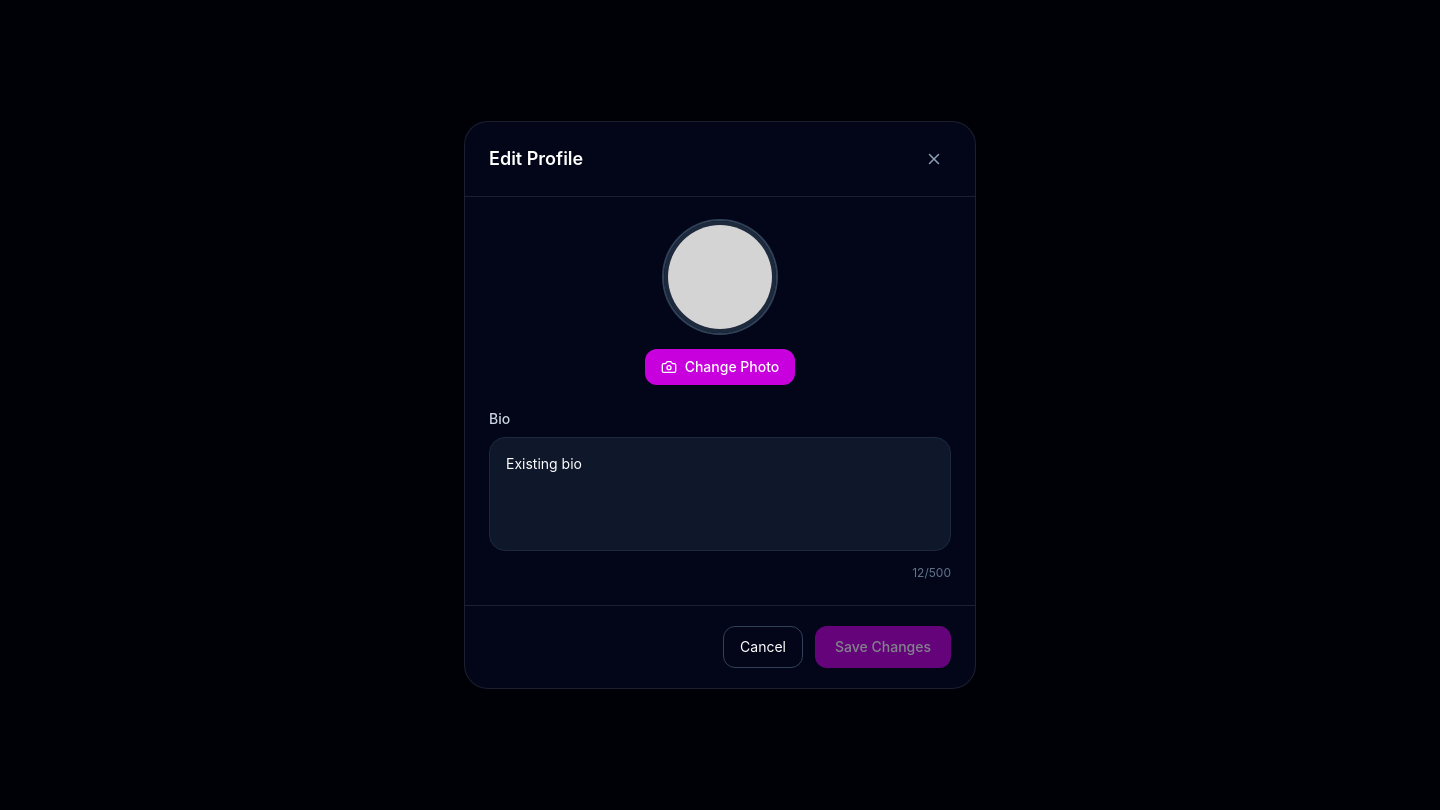
Test: EditProfileModal › shows a recoverable error and closes on Escape
Later steps or results of the test are not shown.
Replace the text in the text box labelled "Bio" with "Changed bio": (720, 494) [489,437,951,551]
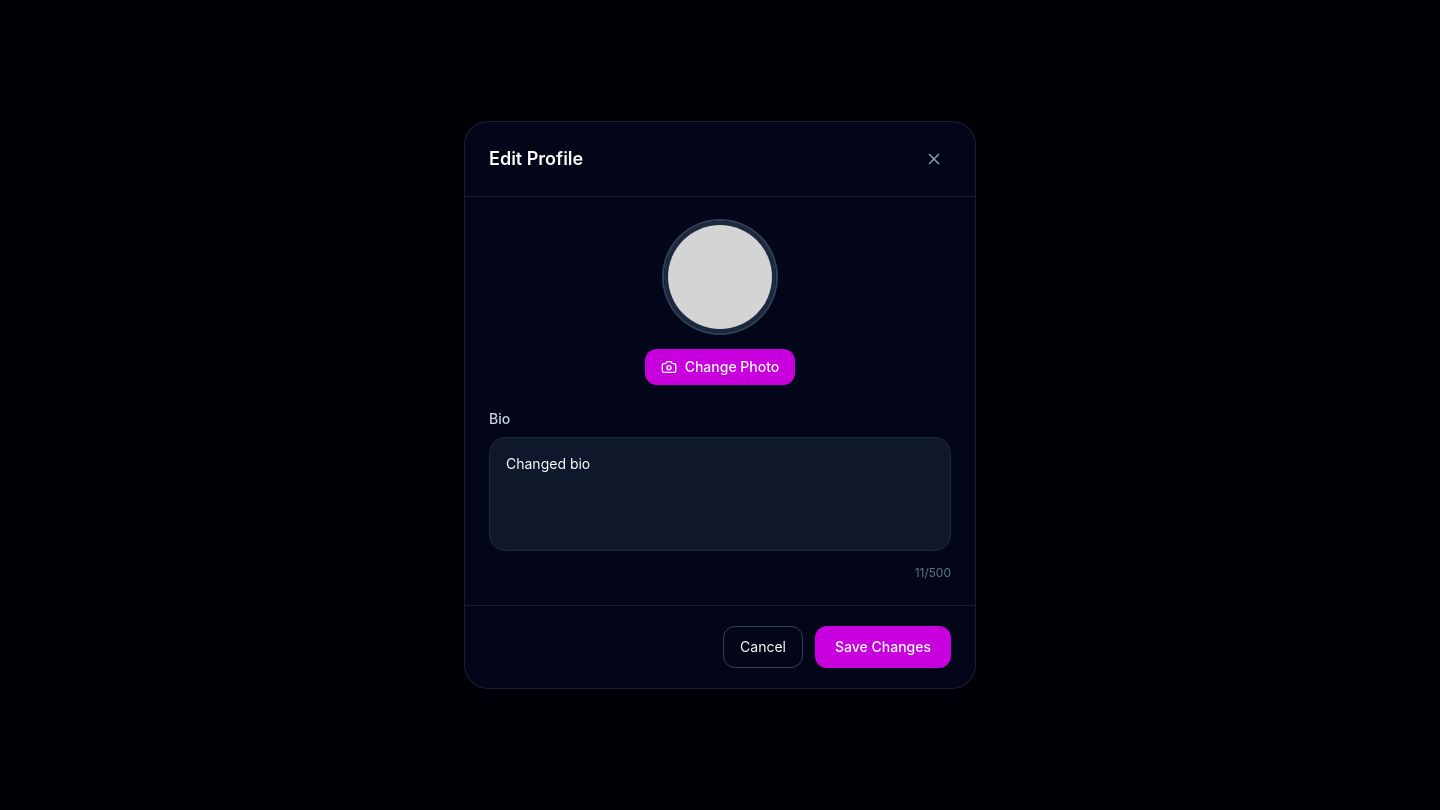
Click the button "Save Changes": (883, 647) [815,626,951,668]
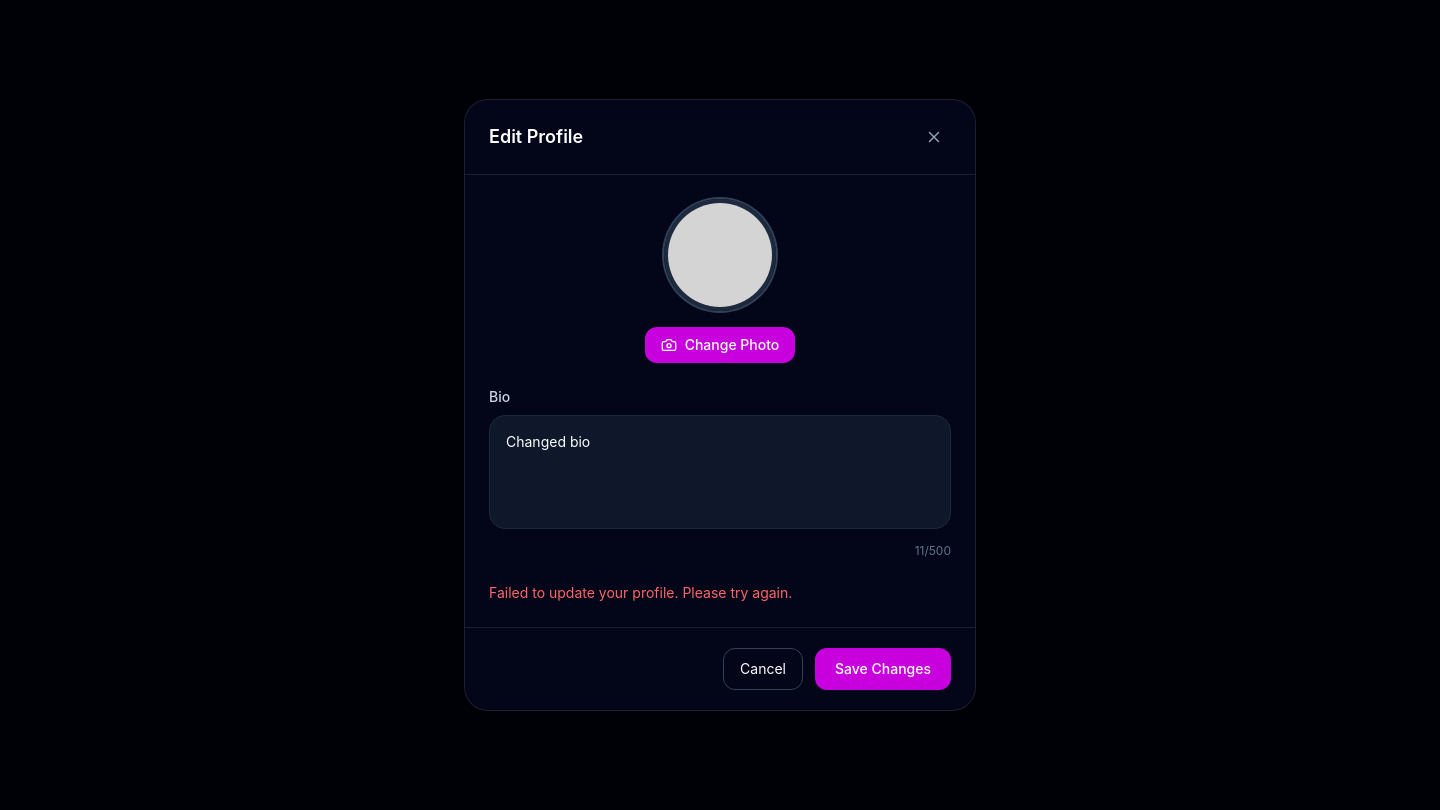
Check: the message reads "Failed to update your profile. Please try again.", box [489,584,792,601]
